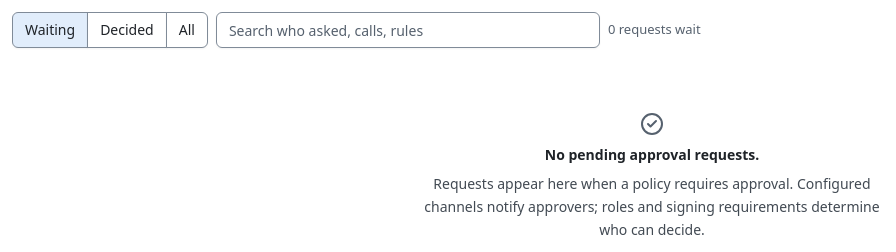
the requests queue › says what would be here when nothing waits and when nothing was decided
Check: the text "No pending approval requests." is shown, box [545,144,759,165]
What coordinates should you click on to do the following:
click the button "Decided"
I would click on:
 (127, 30)
Its box is [87,12,167,48].
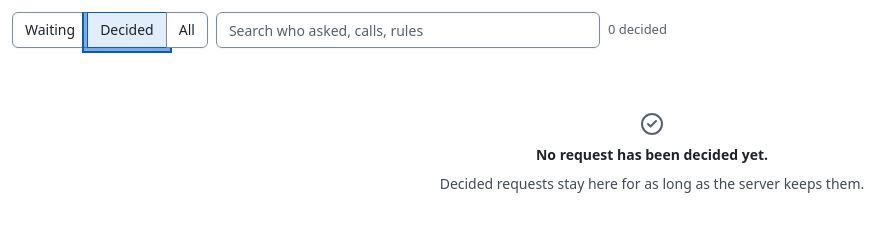
Check: the text "No request has been decided yet." is shown, box [536,144,768,165]
